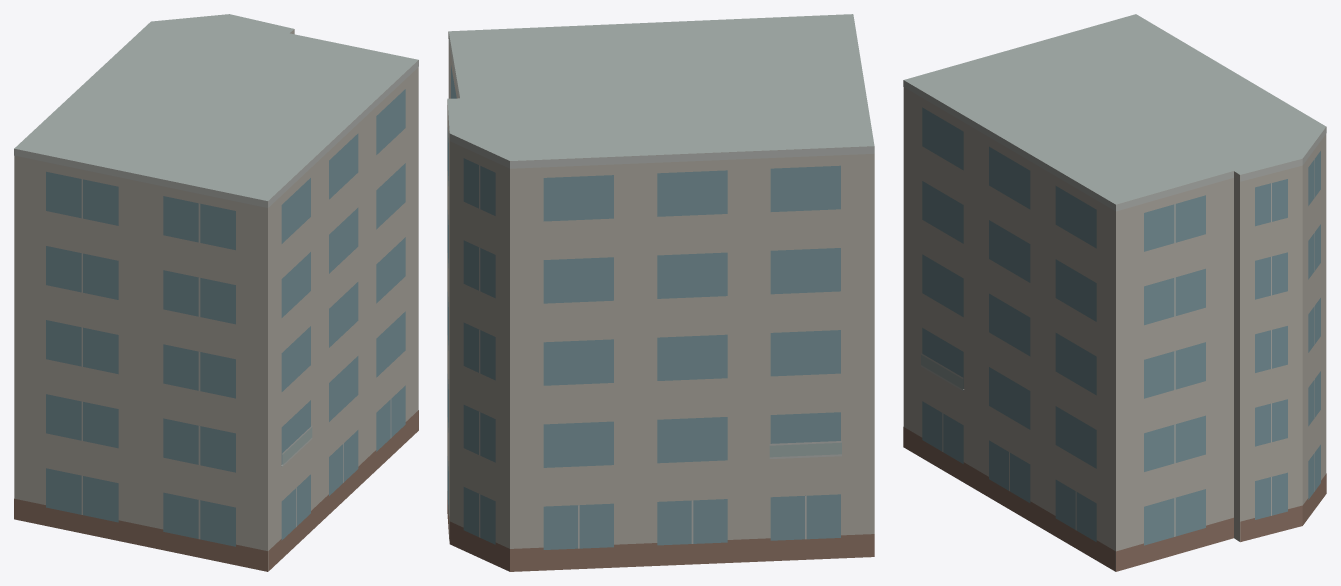
The model's file is survey-upis-33006825.glb.
3 renders of one model, left to right at view 1: azimuth 30°, elevation 25°; view 2: azimuth 150°, elevation 25°; view 3: azimuth 270°, elevation 25°, orthographic. The views are drawn at different scales.
Parts seen in each view (by area): view 1: survey-upis-33006825.tmp; view 2: survey-upis-33006825.tmp; view 3: survey-upis-33006825.tmp.
Part boxes in pixels (x1,y1,x2,y2): survey-upis-33006825.tmp: (14, 14, 418, 571); survey-upis-33006825.tmp: (447, 14, 874, 571); survey-upis-33006825.tmp: (903, 14, 1326, 571).
Bounding box in the file's own units: 14.6 × 13.1 × 13.68.
